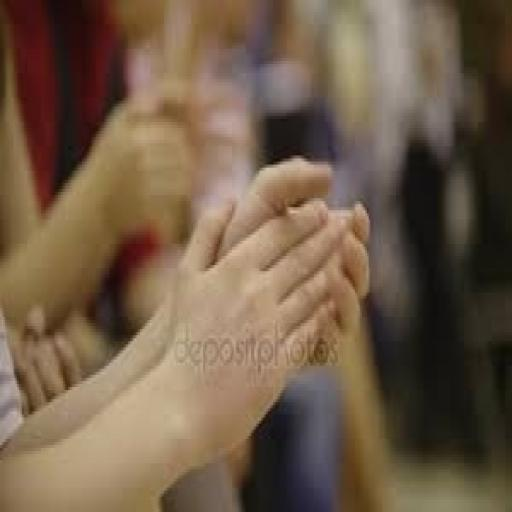clapping: (0, 3, 387, 509)
